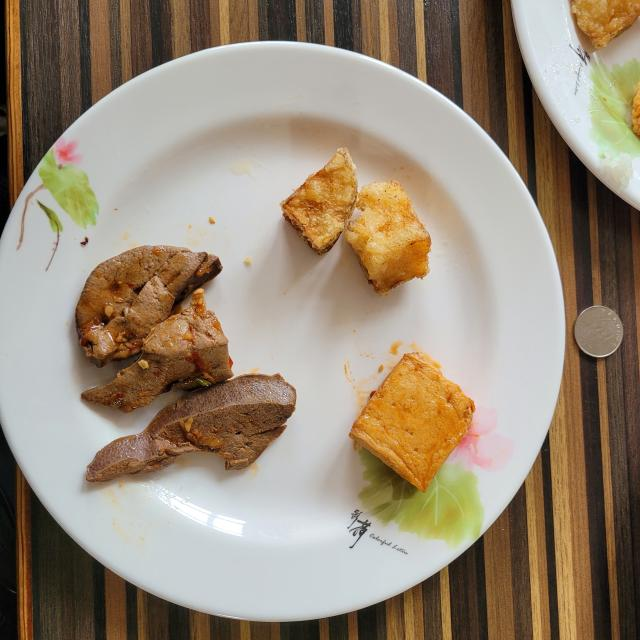coin: (574, 305, 624, 358)
creamy tofu: (349, 352, 475, 492)
fried potato: (280, 148, 431, 295)
pig liver: (76, 246, 296, 482)
